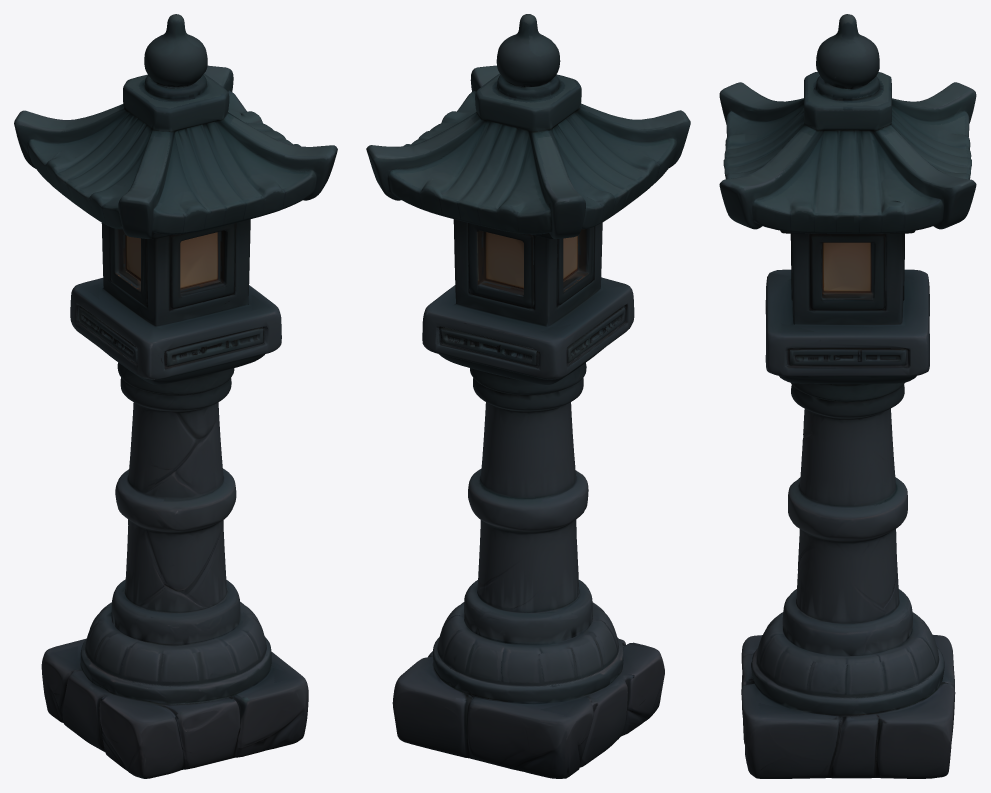
File: jade_lantern.glb
The picture shows the model from 3 angles, left to right: view 1: azimuth 30°, elevation 25°; view 2: azimuth 150°, elevation 25°; view 3: azimuth 270°, elevation 25°; orthographic projection.
Visible parts, largest first — view 1: node_0; view 2: node_0; view 3: node_0.
Part boxes in pixels (box(x1,y1,x2,y2)): node_0: box(14, 14, 337, 778); node_0: box(366, 14, 690, 778); node_0: box(719, 14, 976, 778).
Bounding box in the file's own units: 0.5123 × 1.6 × 0.5141.
Materials: 1 (1 with a texture image).
